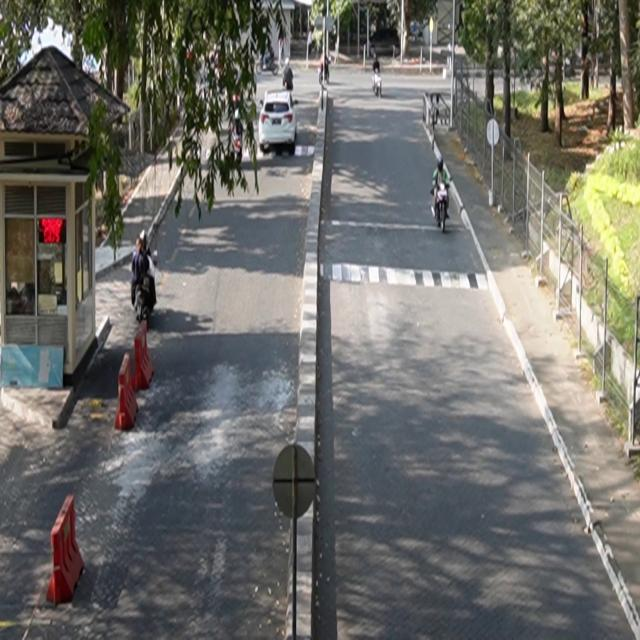car: (259, 89, 298, 155)
